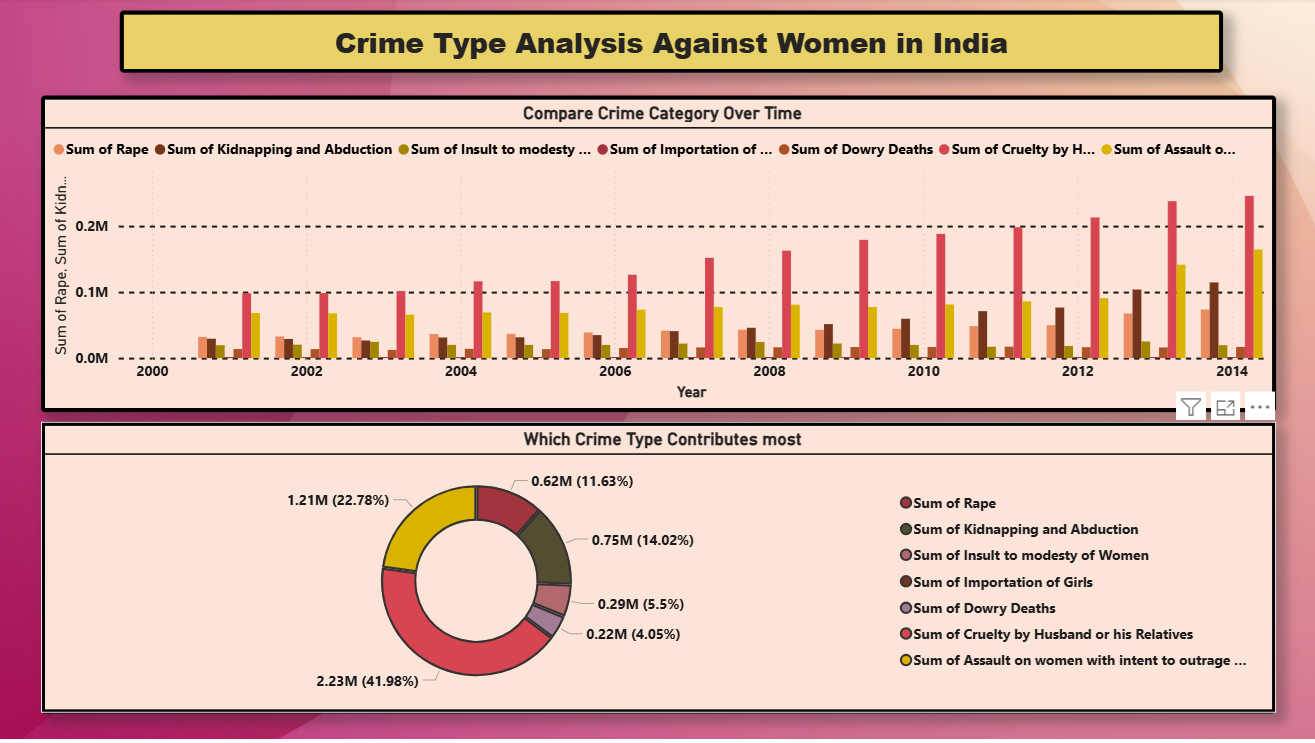

What the dashboard file says about the page in this screenshot:
{"tool":"powerbi","page":{"name":"Page 3","canvas":[1280,720],"ordinal":2},"visuals":[{"type":"clusteredColumnChart","title":"Compare Crime Category Over Time ","fields":{"Category":["crimes_against_women_2001-2014.Year"],"Y":["Sum(crimes_against_women_2001-2014.Rape)","Sum(crimes_against_women_2001-2014.Kidnapping and Abduction)","Sum(crimes_against_women_2001-2014.Insult to modesty of Women)","Sum(crimes_against_women_2001-2014.Importation of Girls)","Sum(crimes_against_women_2001-2014.Dowry Deaths)","Sum(crimes_against_women_2001-2014.Cruelty by Husband or his Relatives)","Sum(crimes_against_women_2001-2014.Assault on women with intent to outrage her modesty)"]},"box":[43.4,93.9,1192,305.4],"z":0},{"type":"donutChart","title":"Which Crime Type Contributes most","fields":{"Y":["Sum(crimes_against_women_2001-2014.Rape)","Sum(crimes_against_women_2001-2014.Kidnapping and Abduction)","Sum(crimes_against_women_2001-2014.Insult to modesty of Women)","Sum(crimes_against_women_2001-2014.Importation of Girls)","Sum(crimes_against_women_2001-2014.Dowry Deaths)","Sum(crimes_against_women_2001-2014.Cruelty by Husband or his Relatives)","Sum(crimes_against_women_2001-2014.Assault on women with intent to outrage her modesty)"]},"box":[43.4,409,1192,281.6],"z":1000},{"type":"textbox","box":[119.1,12.6,1064.6,60.2],"z":2000}]}

Visuals, with their boxes in screenshot pixels (x1, y1, x2, y2), scaled from the page's 1280x720 canvas onto the 1315x743 screenshot:
"Compare Crime Category Over Time " clusteredColumnChart: detection(45, 97, 1269, 412)
"Which Crime Type Contributes most" donutChart: detection(45, 422, 1269, 713)
textbox: detection(122, 13, 1216, 75)
